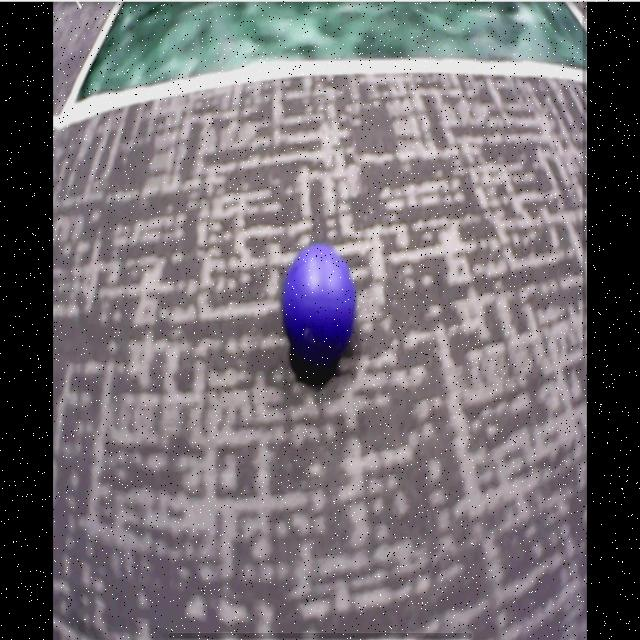ball: (282, 243, 357, 360)
